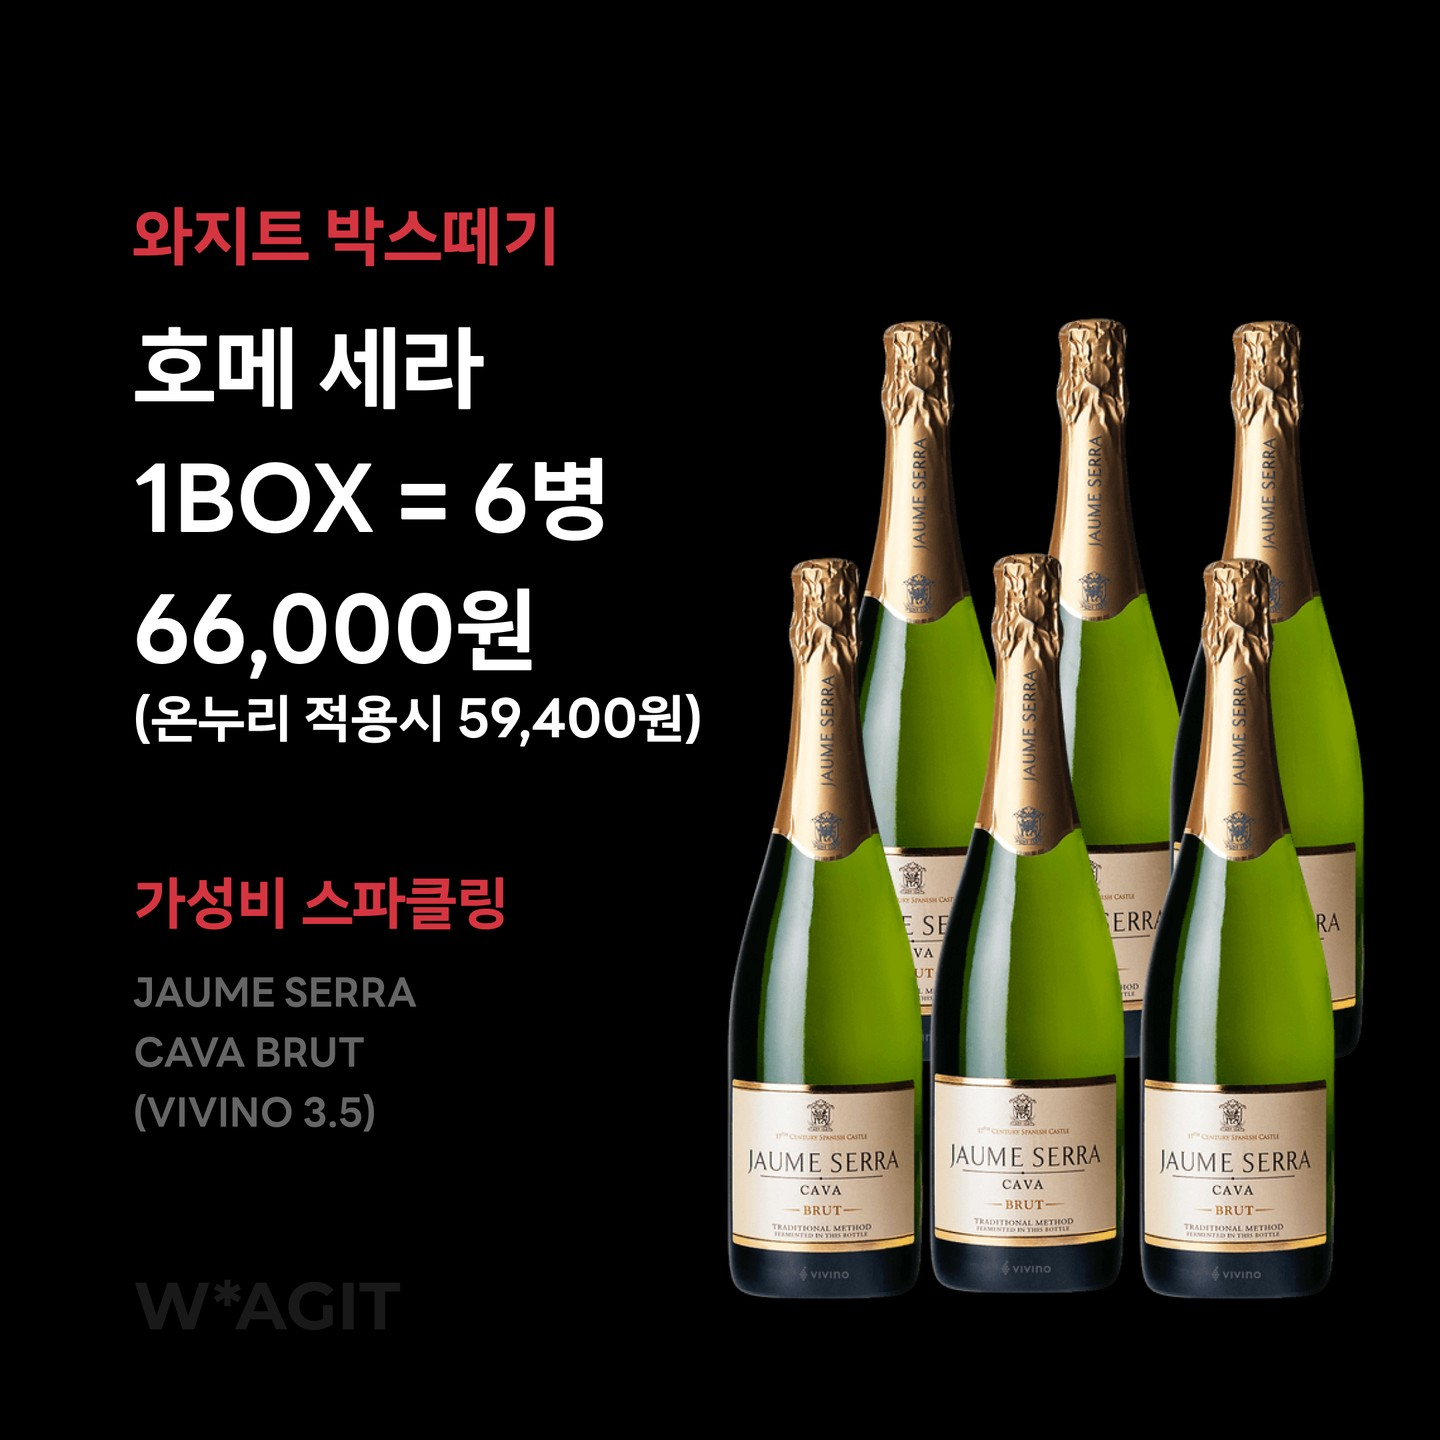alcohol: (764, 310, 1018, 1062), (977, 313, 1197, 1060), (715, 545, 927, 1308), (1130, 547, 1344, 1303), (923, 545, 1127, 1305), (1164, 313, 1370, 1062)
